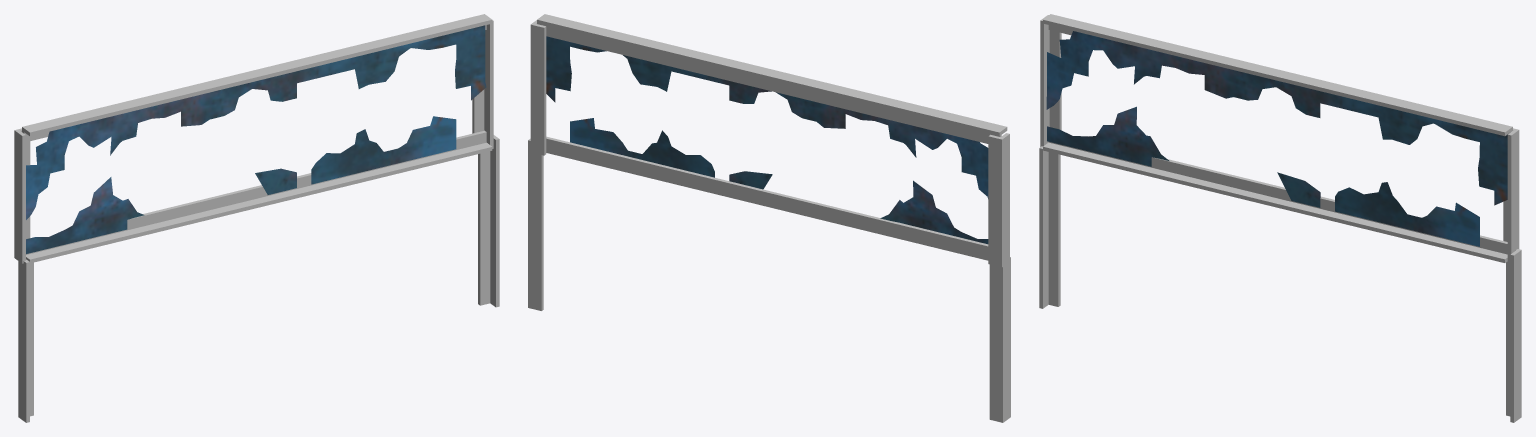
File: Component_Sign_grp.fbx
The picture shows the model from 3 angles, left to right: view 1: azimuth 30°, elevation 25°; view 2: azimuth 150°, elevation 25°; view 3: azimuth 330°, elevation 25°; orthographic projection.
Parts seen in each view (by area): view 1: sign_metalRust, sign_containerBlue; view 2: sign_metalRust, sign_containerBlue; view 3: sign_metalRust, sign_containerBlue.
Part boxes in pixels (x1=…): sign_metalRust: x1=14, y1=14, x2=499, y2=422; sign_containerBlue: x1=26, y1=25, x2=486, y2=253; sign_metalRust: x1=528, y1=14, x2=1010, y2=422; sign_containerBlue: x1=546, y1=36, x2=988, y2=244; sign_metalRust: x1=1039, y1=14, x2=1521, y2=422; sign_containerBlue: x1=1046, y1=31, x2=1507, y2=246.
Bounding box in the file's own units: 440 × 256 × 16.58.
